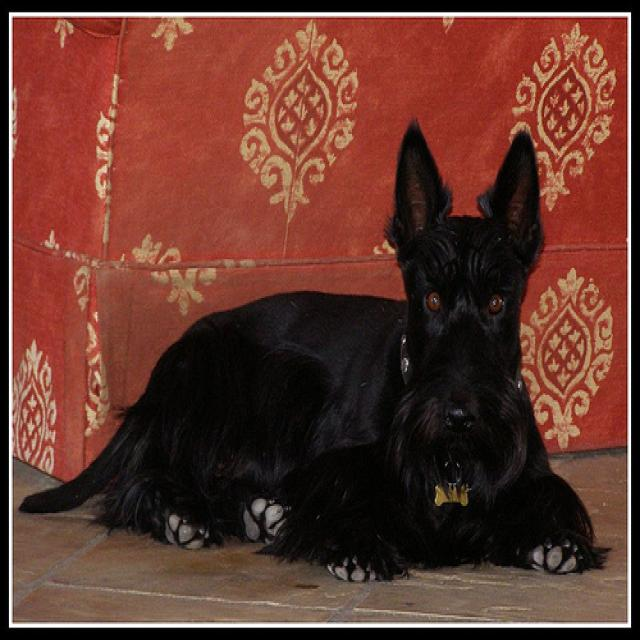dog-scottish_terrier: (14, 109, 604, 582)
